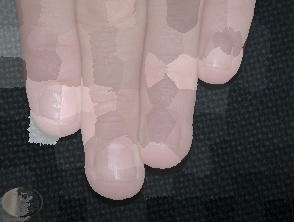Nail_psoriasis: (143, 108, 181, 156), (46, 88, 70, 114)
